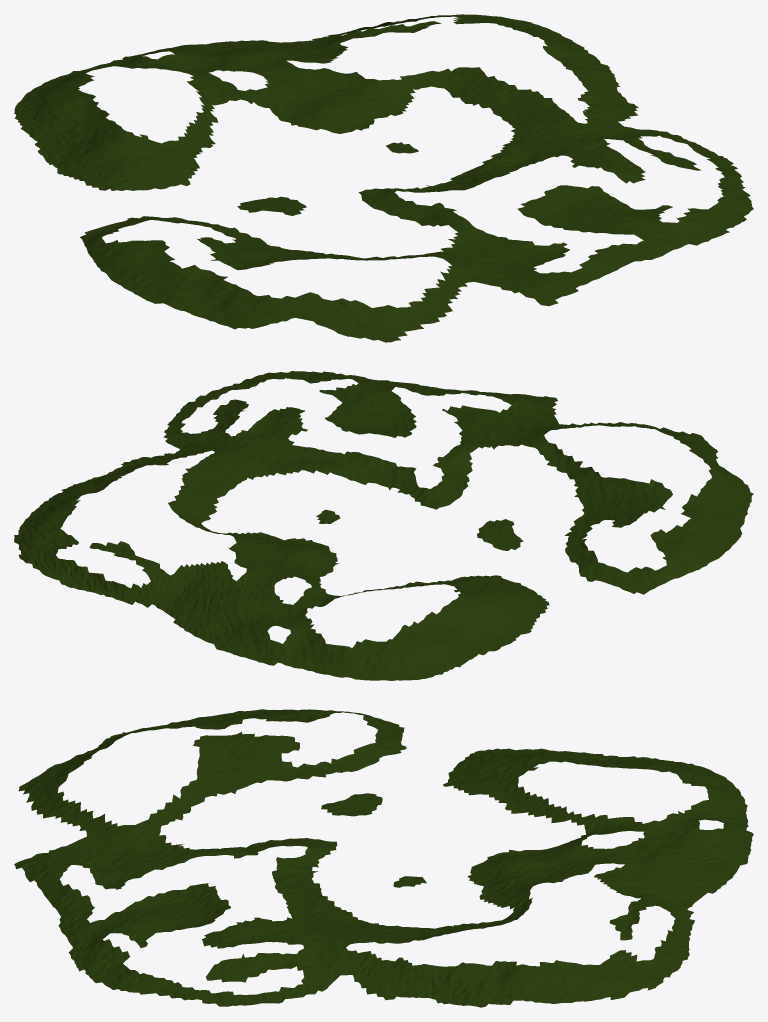
The model's file is ZEME_001_kopaa.FBX.
3 views of the same model, one above another, from view 1: azimuth 30°, elevation 25°; view 2: azimuth 150°, elevation 25°; view 3: azimuth 270°, elevation 25° (orthographic). The views are drawn at different scales.
Visible parts, largest first — view 1: ZEME_001; view 2: ZEME_001; view 3: ZEME_001.
Boxes of the visible parts, x1,y1,x2,y2 form: ZEME_001: [14, 14, 753, 342]; ZEME_001: [14, 371, 753, 680]; ZEME_001: [14, 709, 753, 1007].
Size of the model in its own units: 206303 by 8873 by 218114.
